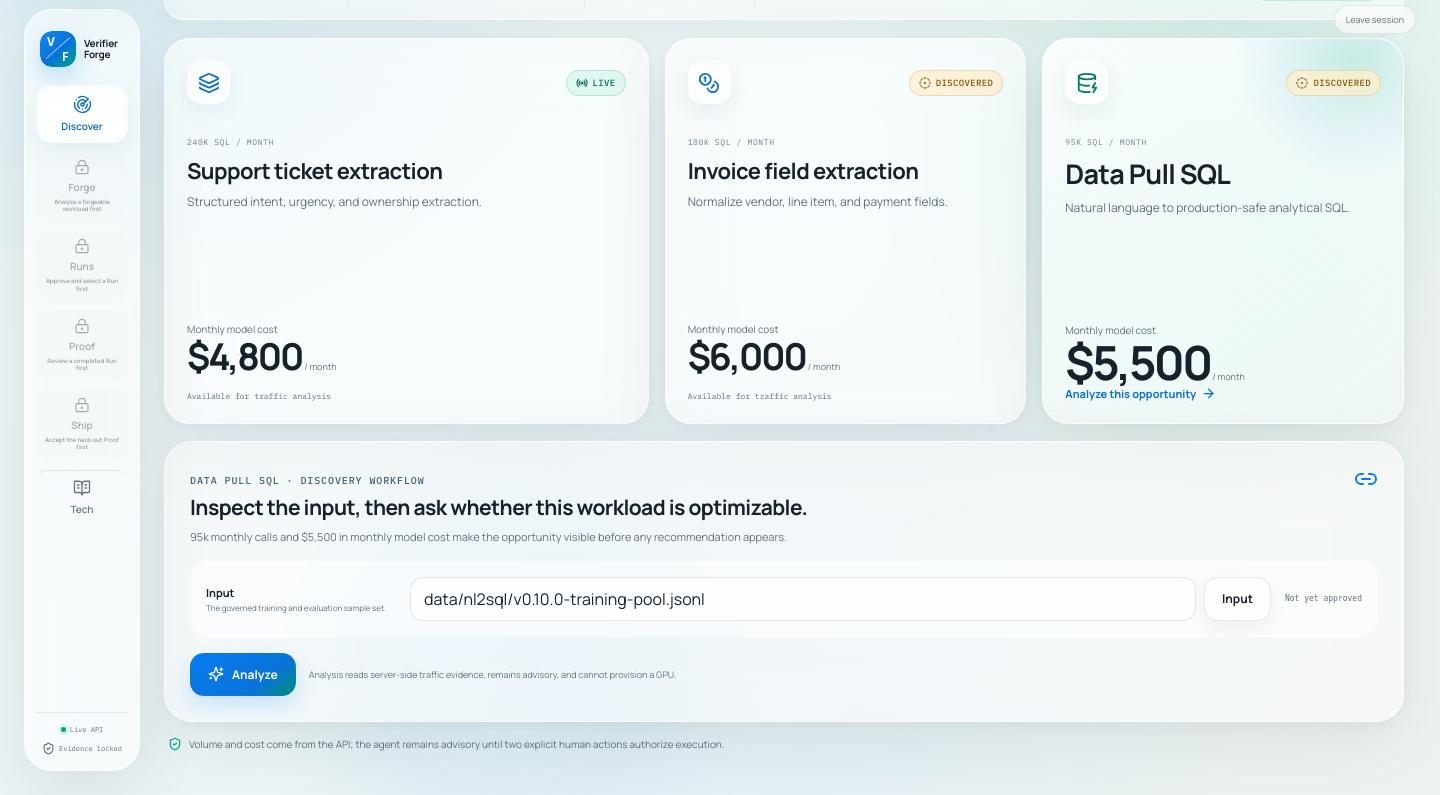
Scenario: reviewer product path › shows honest live progress while a fresh Agent request is pending
This screenshot has width=1440, height=795.
(page scrolled)
Click the button "Analyze". click: (243, 674)
box: [190,653,296,696]
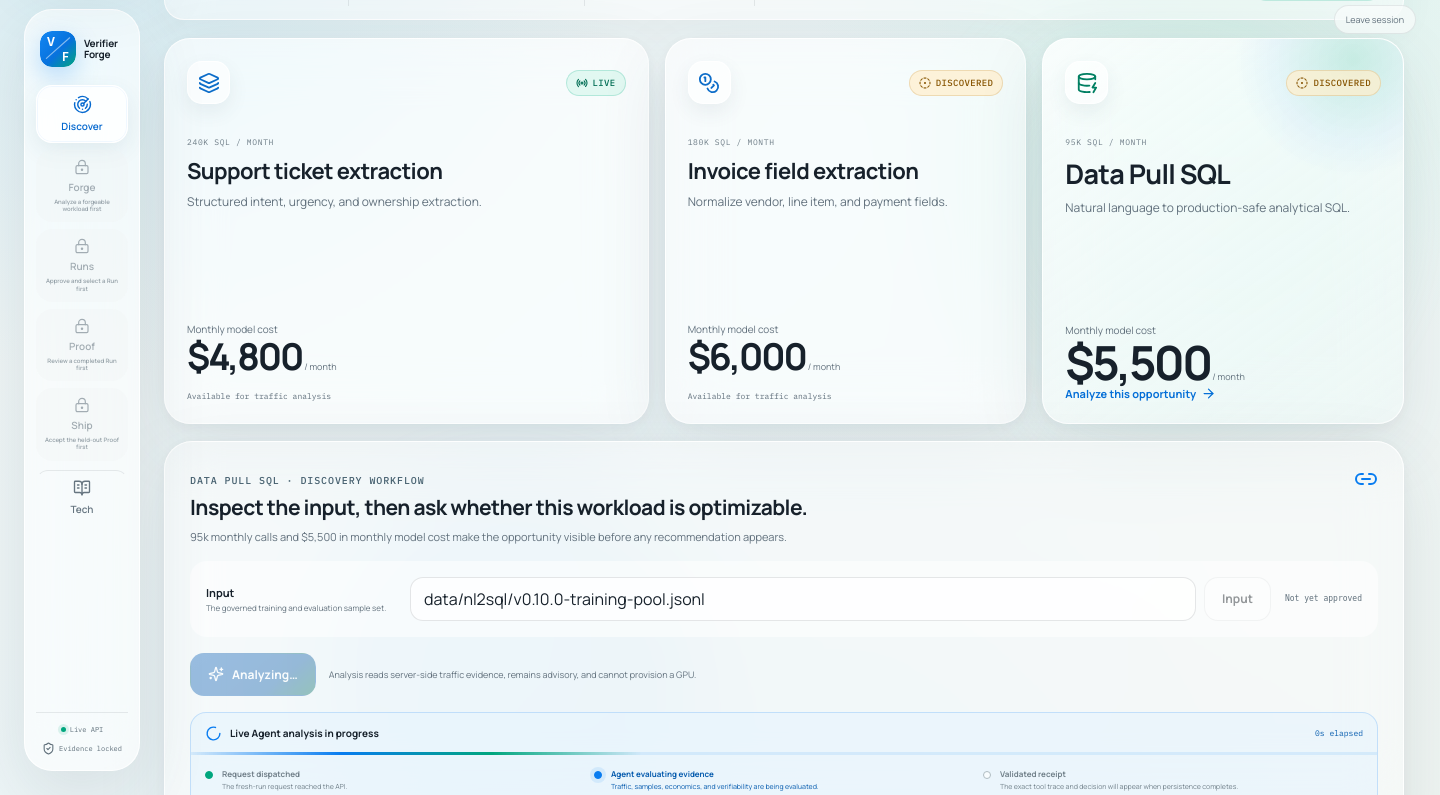
Now the message named "Agent analysis progress" shows "Live Agent analysis in progress", box [230,726,379,740]
Now the message named "Agent analysis progress" shows "Request dispatched", box [222,768,300,779]
Now the message named "Agent analysis progress" shows "Agent evaluating evidence", box [611,768,714,779]
